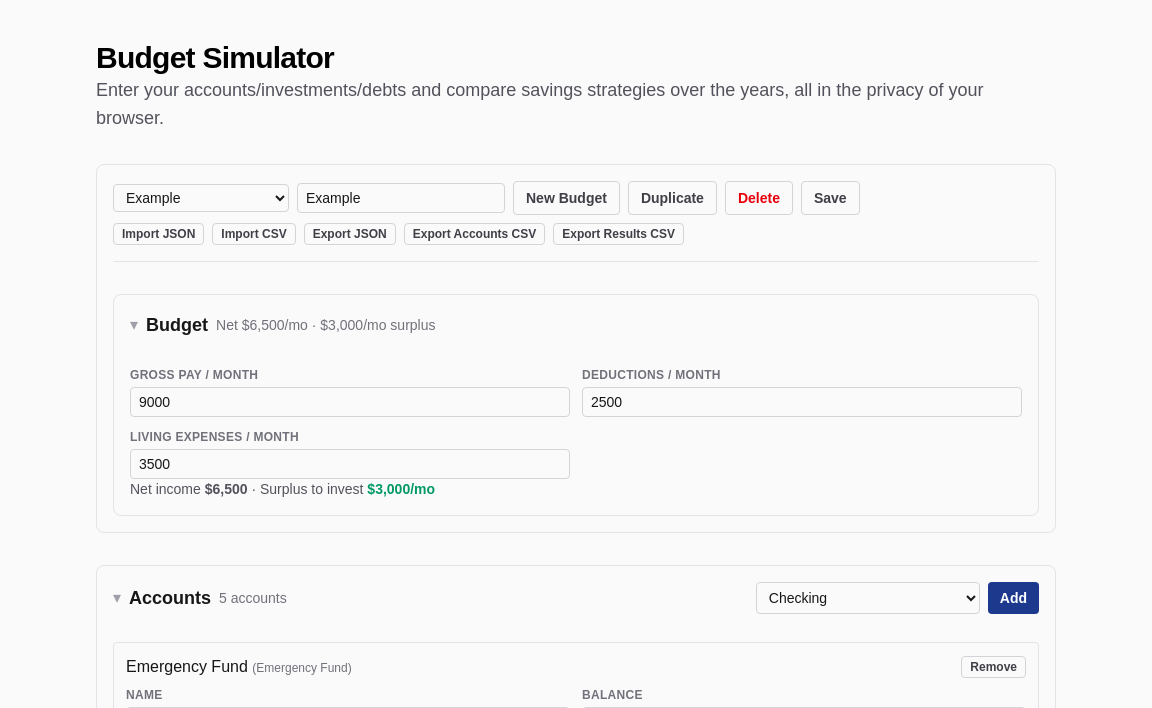
Test: Home › creates a new budget and switches to it
Click the button "New Budget" at x=566, y=198, box top-left (513, 181), bottom-right (620, 215)
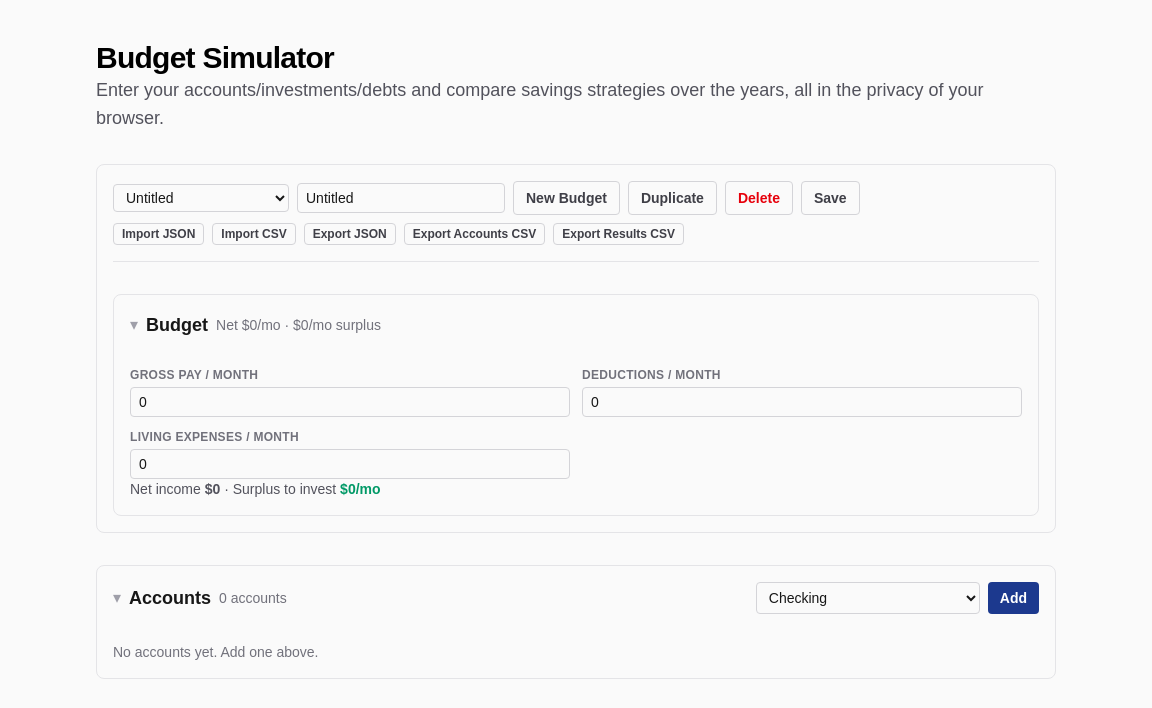
Result: the field named "Budget name" holds "Untitled" at top-left (297, 183), bottom-right (505, 213)
